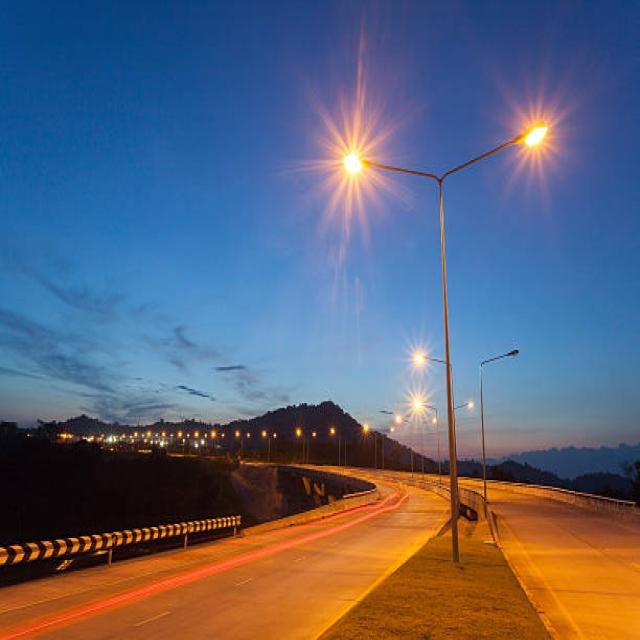acesa: (320, 106, 369, 202), (512, 103, 556, 166)
